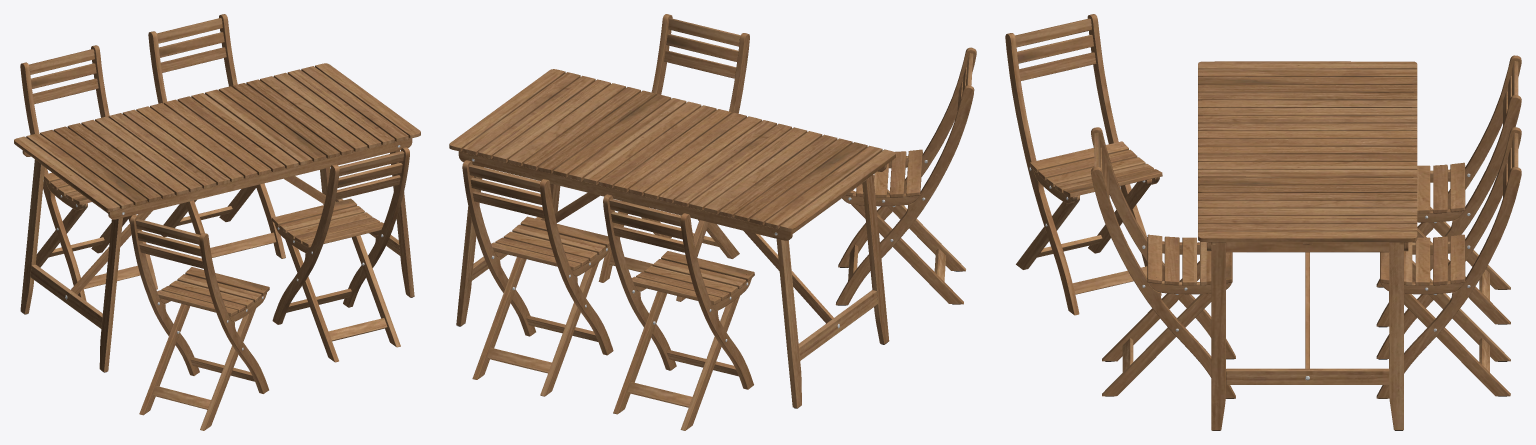
Rendered from askholmen_sto_4_krzesa_skadane_ogrodowe_79529102.glb.
The picture shows the model from 3 angles, left to right: view 1: azimuth 30°, elevation 25°; view 2: azimuth 150°, elevation 25°; view 3: azimuth 270°, elevation 25°; orthographic projection. The views are drawn at different scales.
Parts seen in each view (by area): view 1: askholmen_sto_4_krzesa_skadane_ogrodowe_79529102; view 2: askholmen_sto_4_krzesa_skadane_ogrodowe_79529102; view 3: askholmen_sto_4_krzesa_skadane_ogrodowe_79529102.
Boxes of the visible parts, x1=… form: askholmen_sto_4_krzesa_skadane_ogrodowe_79529102: x1=14, y1=14, x2=420, y2=430; askholmen_sto_4_krzesa_skadane_ogrodowe_79529102: x1=449, y1=14, x2=976, y2=430; askholmen_sto_4_krzesa_skadane_ogrodowe_79529102: x1=1005, y1=14, x2=1521, y2=430.
Size of the model in its own units: 1.54 by 0.8695 by 1.77.
1 material, 1 textured.
